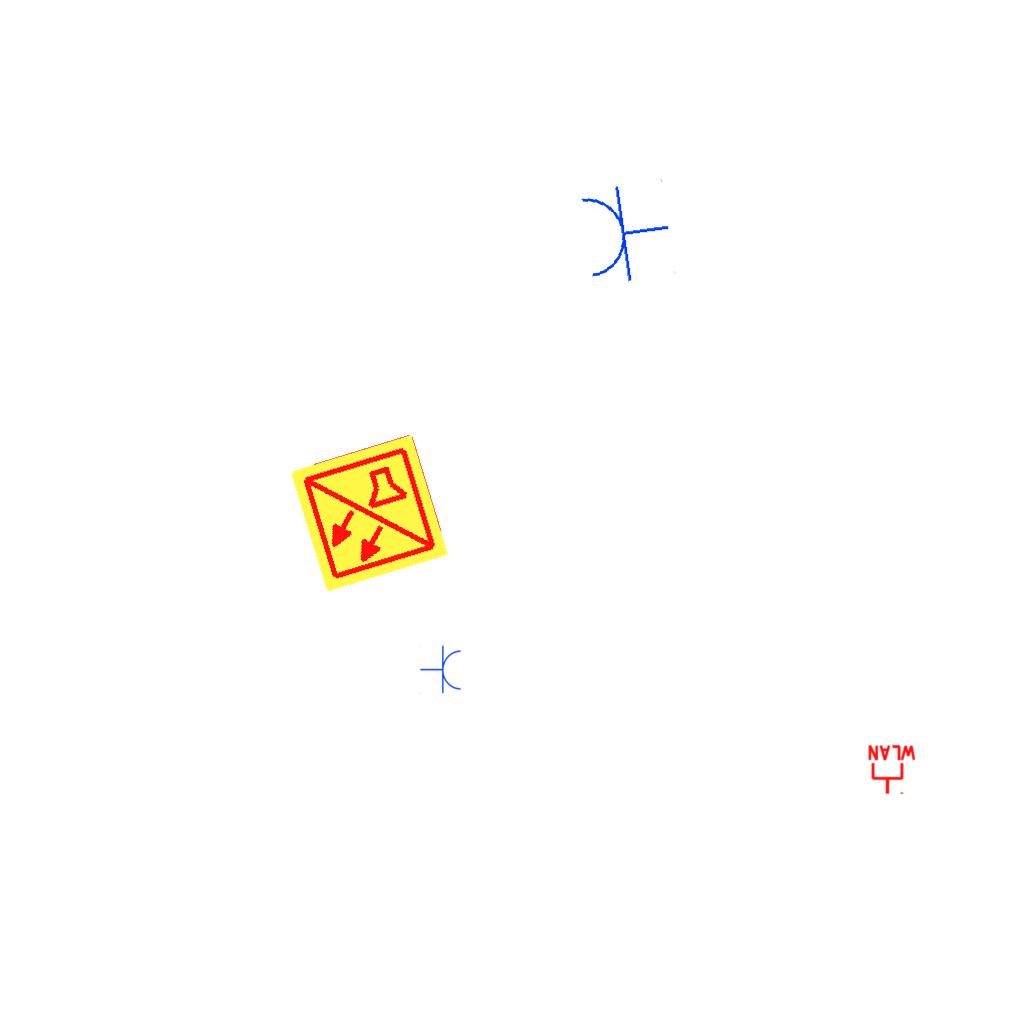OKW_Multisensormelder_(Kombination_optischer_Rauch-Kahlenmonoxid_Waerme-Melder): (286, 430, 452, 596)
Schukosteckdose_einfach: (575, 176, 677, 289), (420, 645, 463, 695)
WLAN: (866, 744, 918, 796)
